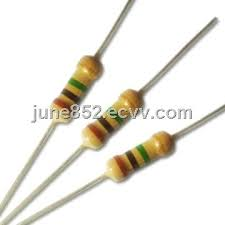resistor: (47, 49, 110, 124), (103, 130, 187, 186)
